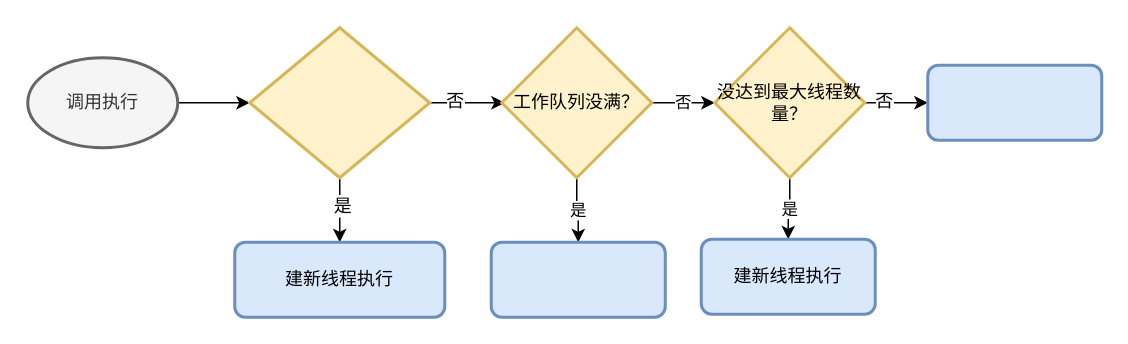
Some shapes in this 1128 by 344 pixel diagram are drawn without their labels. Here are the shapes that lost their labels. From the top down, the centre of each, then its label:
point (339, 102): 没达到核心线程数量？
point (1014, 102): 拒绝执行策略
point (577, 279): 加入队列
